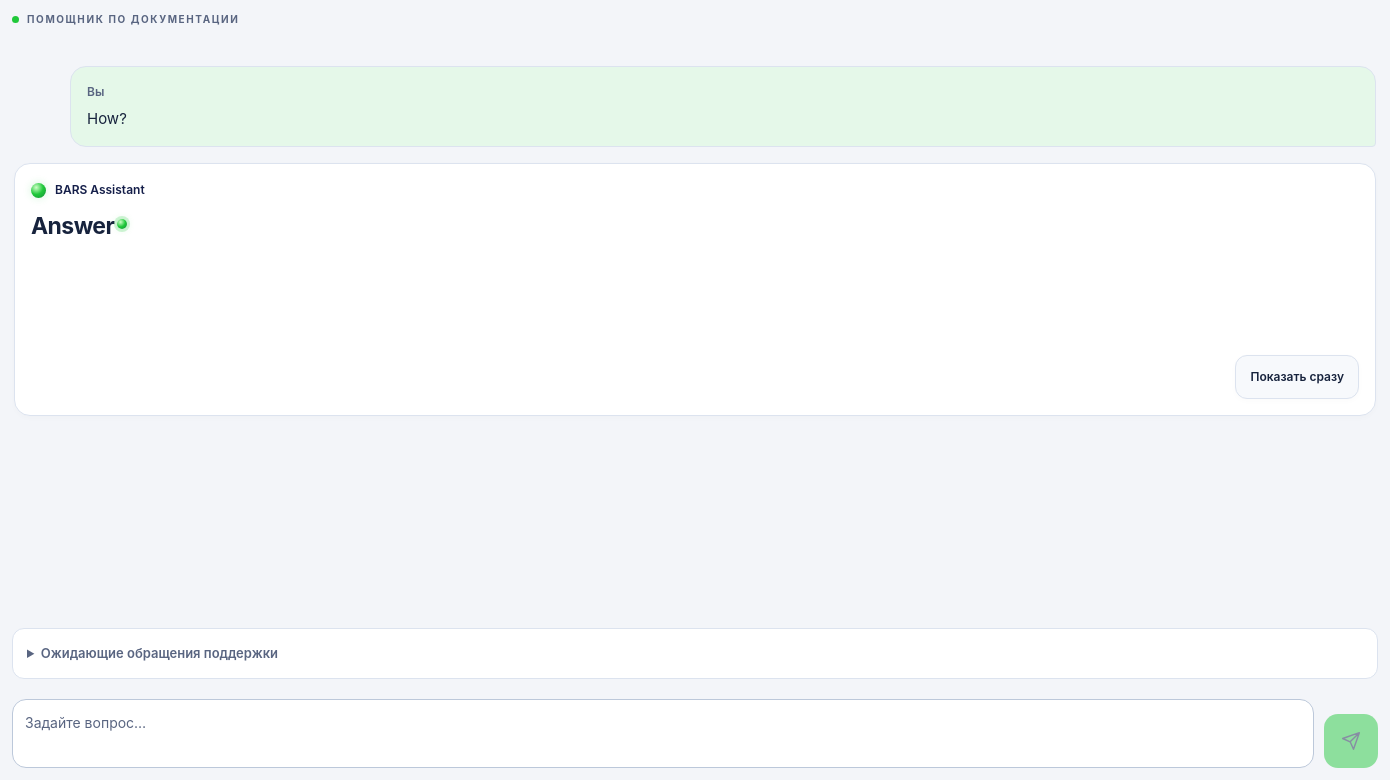
Test: redesign interactions › removes the previous pair as soon as a new question is submitted
Expected: the heading "Answer" is shown, x1=31 y1=212 x2=114 y2=240
Type "Next question" into the text box named "Ваш вопрос".
click(663, 733); type("Next question")  # box x1=12 y1=699 x2=1314 y2=768
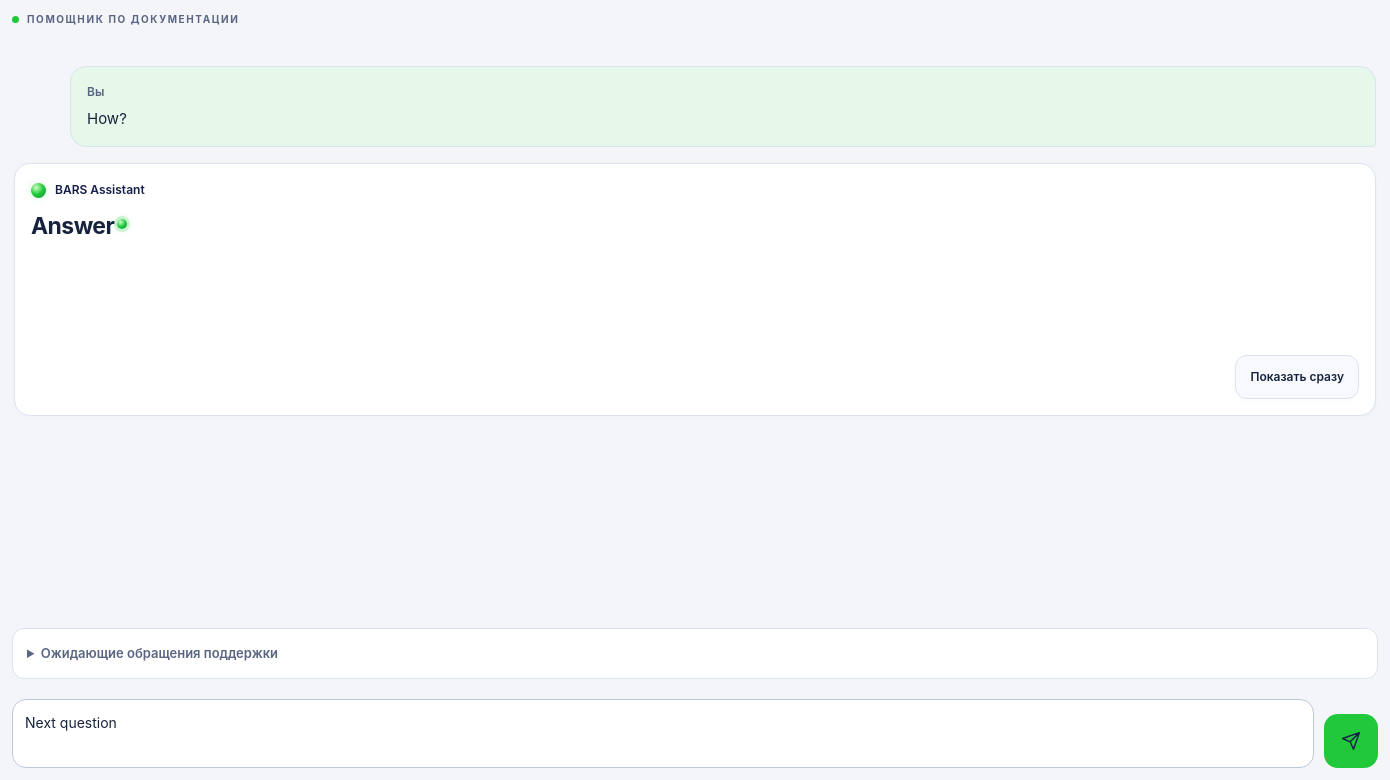
Click the button named "Отправить".
click(1351, 741)  # box x1=1324 y1=714 x2=1378 y2=768
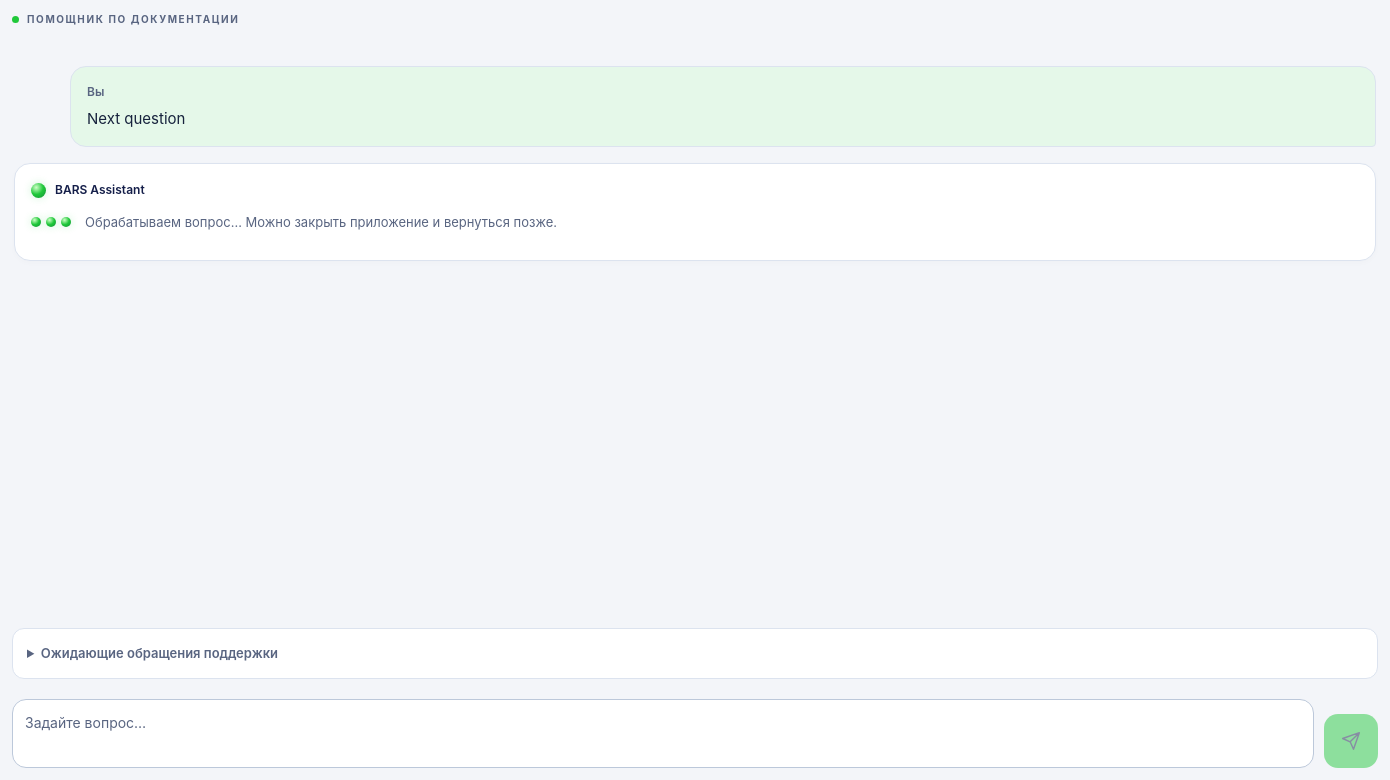
Expected: the heading "Answer" is gone
Expected: the text "Next question" is shown, x1=87 y1=109 x2=185 y2=128
Expected: the text "How?" is gone
